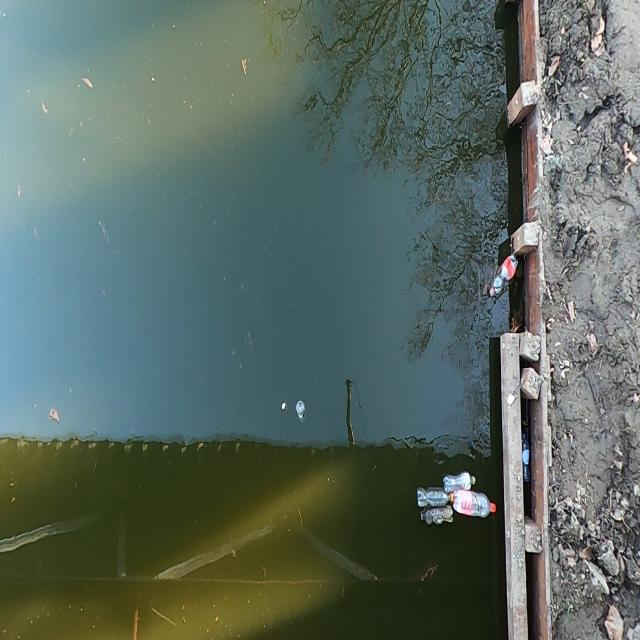Bouteille plastique: (489, 254, 518, 299), (455, 488, 496, 516), (417, 486, 452, 508), (443, 473, 477, 493), (420, 506, 452, 524), (521, 435, 530, 480)
Non plastique: (296, 400, 308, 422)
